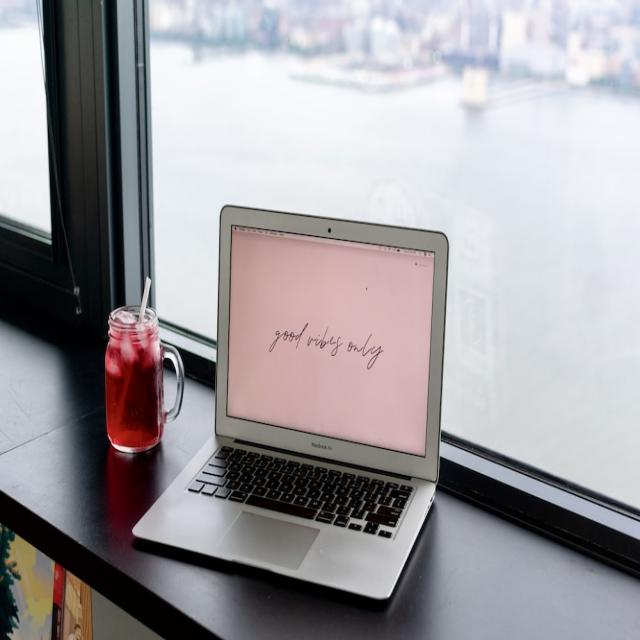keyboard: (183, 438, 429, 539)
